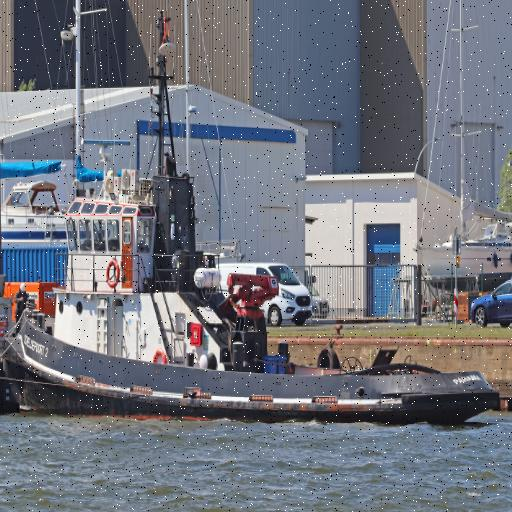tugboat: (2, 150, 504, 436)
